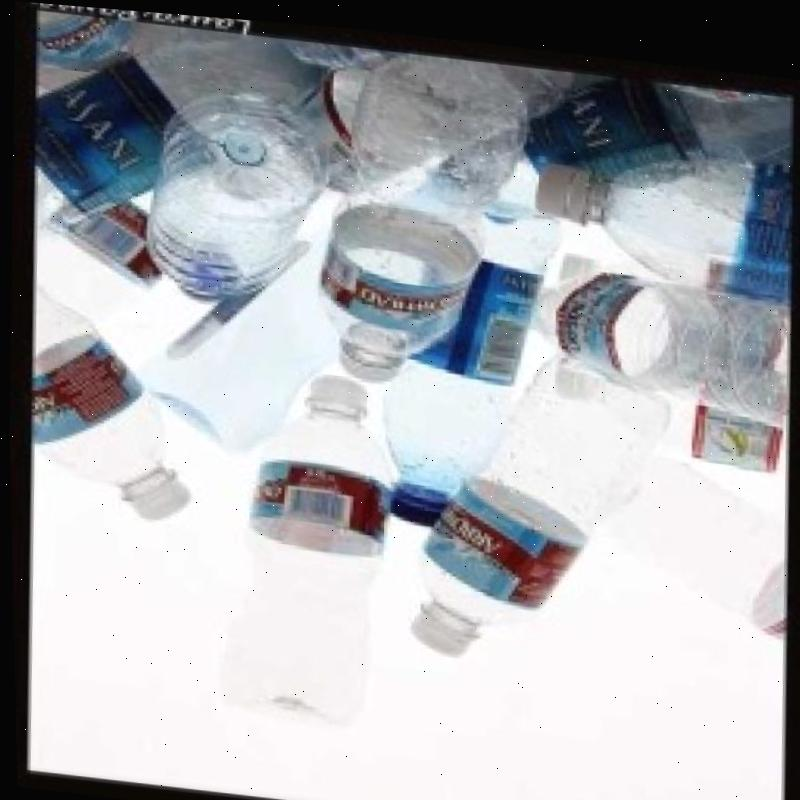botella: (399, 335, 672, 667), (313, 36, 530, 388), (203, 355, 394, 726), (374, 179, 565, 532), (144, 198, 354, 453), (491, 54, 790, 233), (516, 243, 790, 417), (532, 129, 790, 295), (21, 276, 193, 522), (139, 81, 323, 308), (27, 45, 210, 262), (551, 349, 787, 466), (124, 18, 324, 154), (27, 186, 169, 354), (32, 13, 129, 84), (746, 542, 789, 636)
